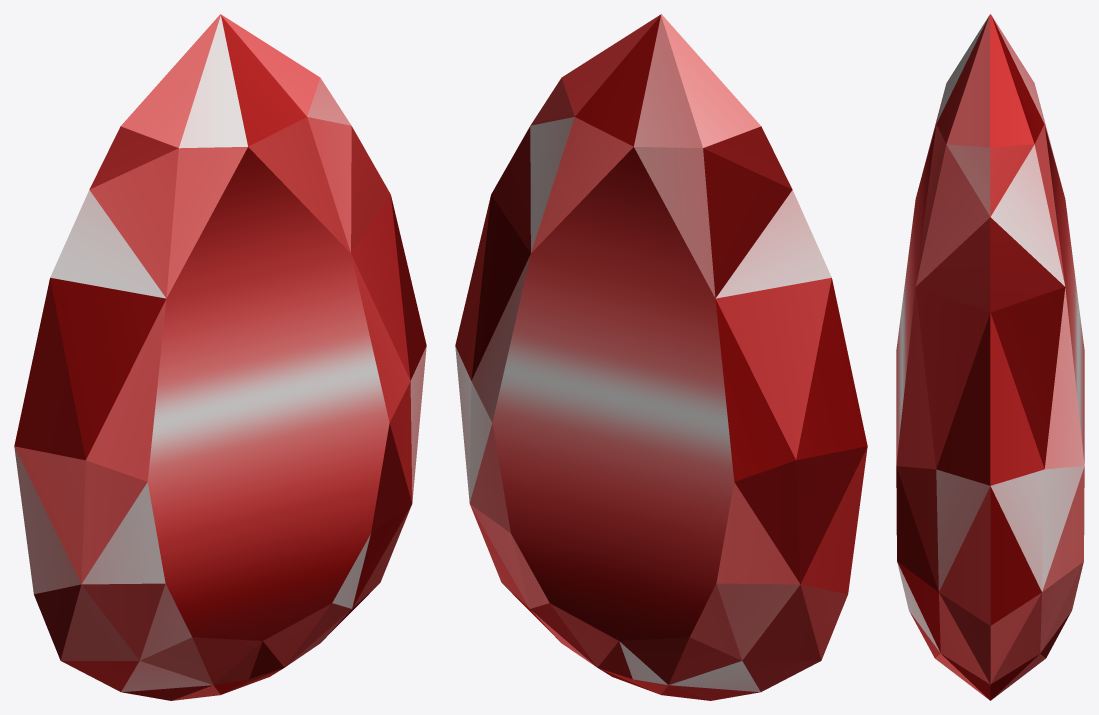
The model's file is diamond.FBX.
3 renders of one model, left to right at view 1: azimuth 30°, elevation 25°; view 2: azimuth 150°, elevation 25°; view 3: azimuth 270°, elevation 25°, orthographic. The views are drawn at different scales.
Parts seen in each view (by area): view 1: diamond; view 2: diamond; view 3: diamond.
Part boxes in pixels (left/top/right/bottom): diamond: left=14, top=14, right=426, bottom=700; diamond: left=455, top=14, right=867, bottom=700; diamond: left=896, top=14, right=1084, bottom=700.
Bounding box in the file's own units: 34.18 × 53.95 × 13.82.
Materials: 1 (1 with a texture image).
